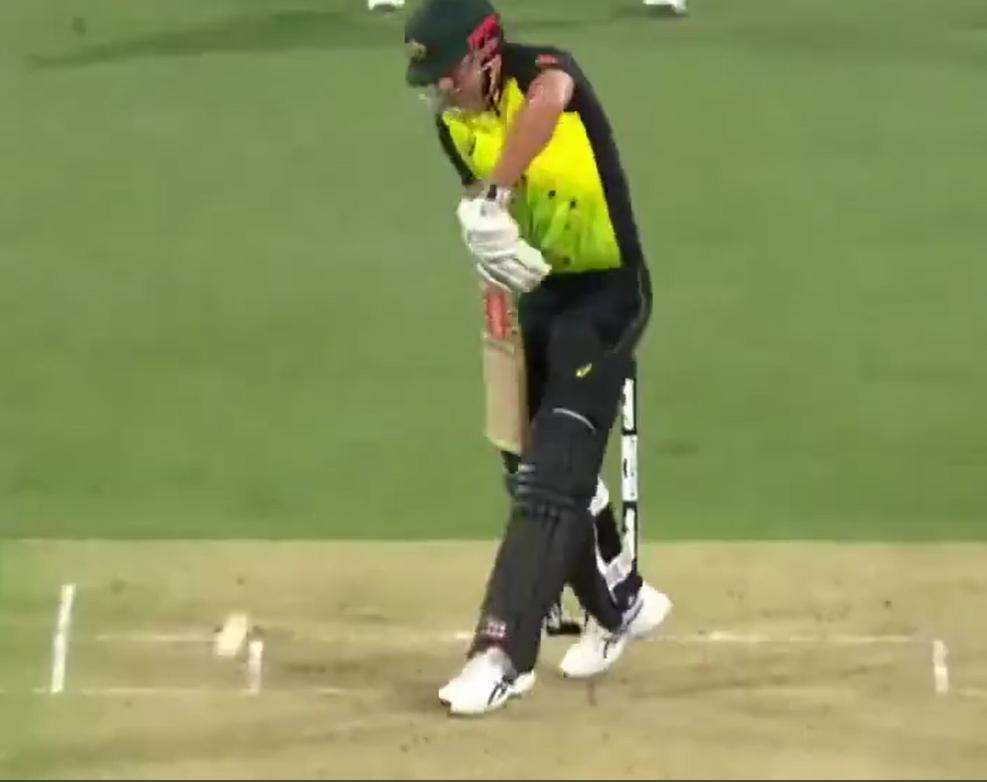batsman: (374, 11, 700, 714)
